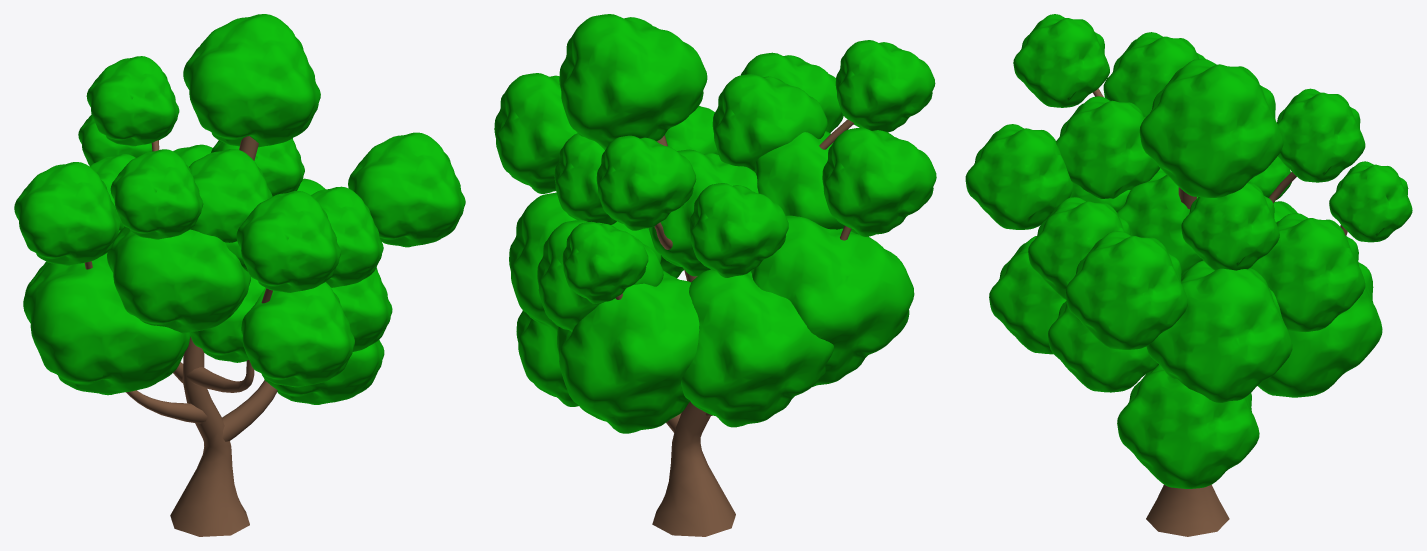
Rendered from Base tree.fbx.
3 views of the same model, side by side, from view 1: azimuth 30°, elevation 25°; view 2: azimuth 150°, elevation 25°; view 3: azimuth 270°, elevation 25° (orthographic). The views are drawn at different scales.
Parts seen in each view (by area): view 1: VG_Tree_01; view 2: VG_Tree_01; view 3: VG_Tree_01.
Boxes of the visible parts, x1,y1,x2,y2 form: VG_Tree_01: (14, 14, 465, 536); VG_Tree_01: (494, 14, 936, 536); VG_Tree_01: (965, 14, 1412, 536).
Bounding box in the file's own units: 7.94 × 8.48 × 7.12.
